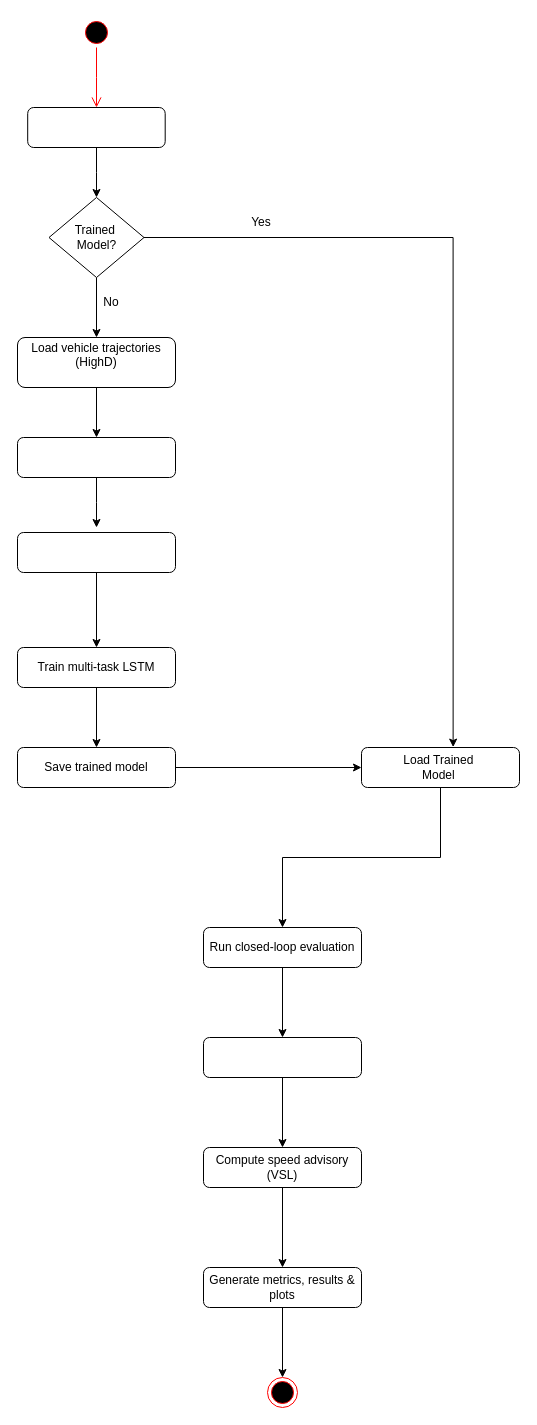
Image size: 537x1425. Some labels were removed from this diagram. The box of each missing label's shape, as (x1, y1, x2, y2) in pixels:
Aggregate lane–segment states: (16, 436, 176, 478)
Initialization: (27, 106, 165, 148)
Predict traffic speed and lane-change risk: (202, 1036, 362, 1078)
Split into train set and validation set: (16, 532, 176, 572)
